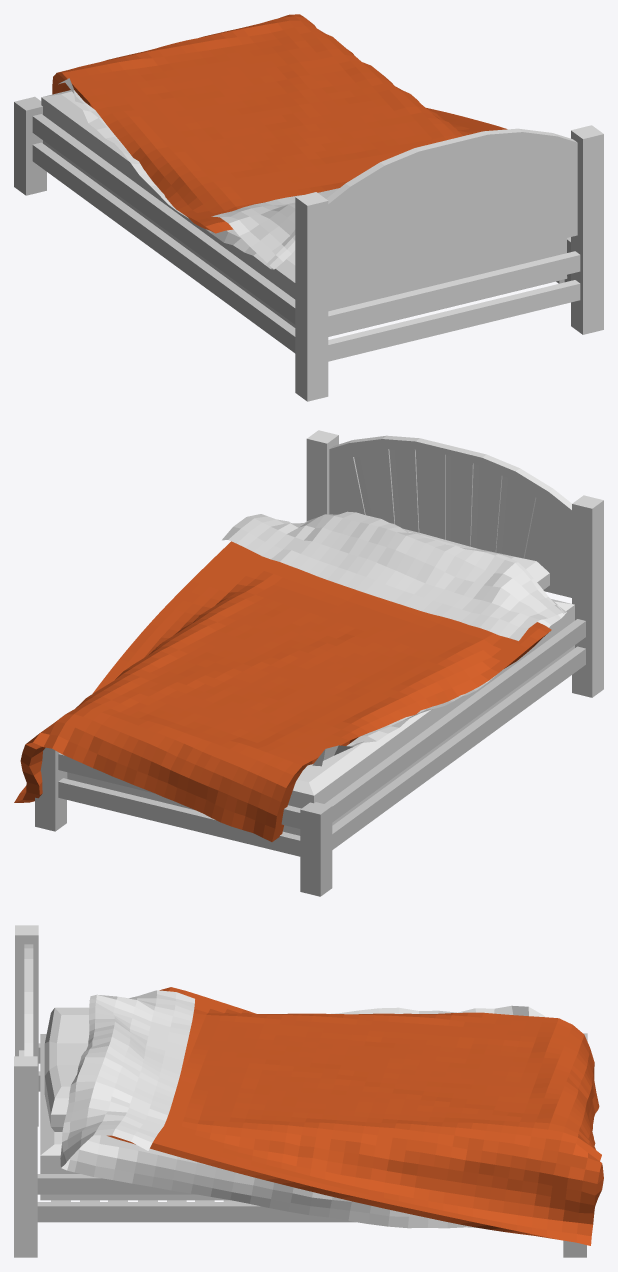
File: bed-wonky-covers.fbx
The picture shows the model from 3 angles, top to bottom: view 1: azimuth 30°, elevation 25°; view 2: azimuth 150°, elevation 25°; view 3: azimuth 270°, elevation 25°; orthographic projection. The views are drawn at different scales.
Visible parts, largest first — view 1: bed, blanket, side-left, mattress, sheet, foot; view 2: blanket, bed, sheet, side-left, foot, mattress, pillow; view 3: blanket, sheet, bed, side-right, pillow, mattress.
Part boxes in pixels (left/top/right/bottom): bed: left=295, top=125, right=603, bottom=401; blanket: left=52, top=14, right=507, bottom=233; side-left: left=32, top=114, right=295, bottom=353; mattress: left=41, top=90, right=566, bottom=336; sheet: left=58, top=78, right=339, bottom=269; foot: left=14, top=96, right=46, bottom=195; blanket: left=14, top=541, right=551, bottom=841; bed: left=306, top=430, right=603, bottom=697; sheet: left=222, top=511, right=566, bottom=767; side-left: left=325, top=619, right=585, bottom=849; foot: left=35, top=747, right=332, bottom=896; mattress: left=67, top=599, right=574, bottom=835; pillow: left=404, top=529, right=549, bottom=589; blanket: left=107, top=987, right=603, bottom=1245; sheet: left=60, top=990, right=544, bottom=1228; bed: left=14, top=925, right=38, bottom=1257; side-right: left=37, top=1174, right=355, bottom=1222; pillow: left=44, top=1007, right=89, bottom=1131; mattress: left=40, top=1034, right=229, bottom=1200.
Bounding box in the file's own units: 767 × 456 × 1146.
